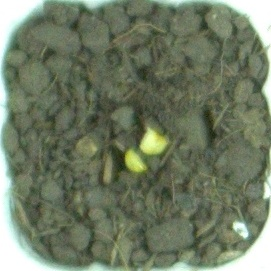pepper seed: (52, 47, 222, 204), (46, 60, 198, 234)
